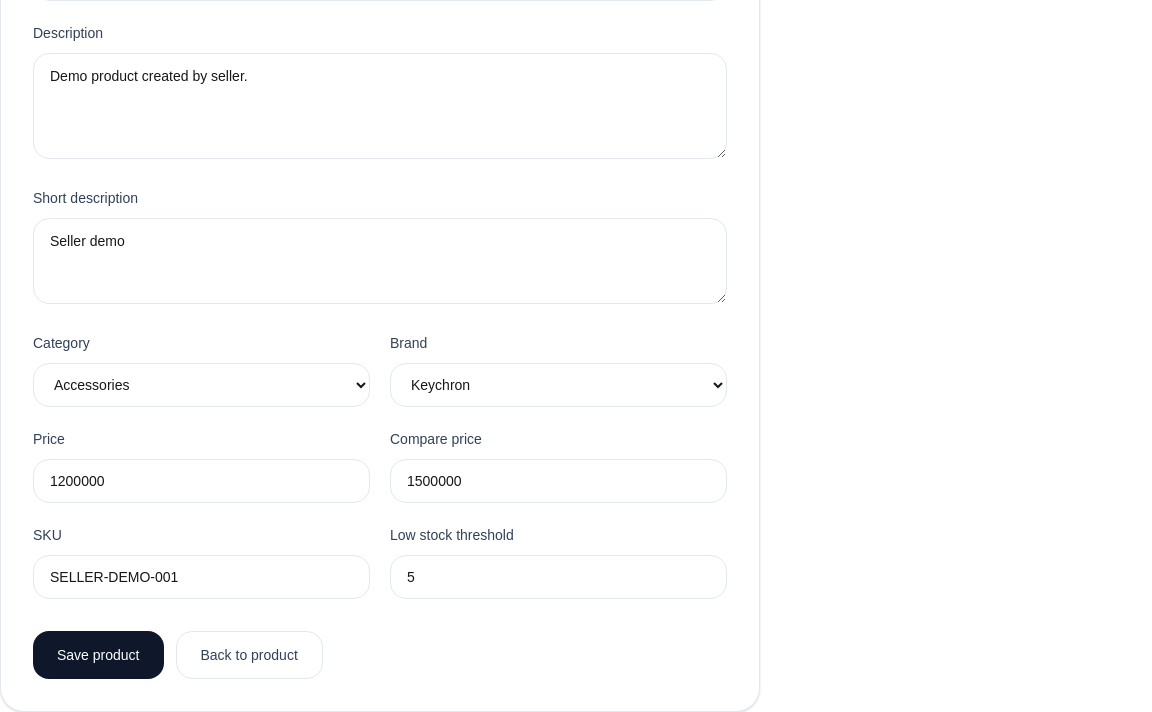
Scenario: SellerProductEditForm › shows update error
(page scrolled)
Click the button "Save product" at (98, 655), box x1=33 y1=631 x2=164 y2=679
(page scrolled)
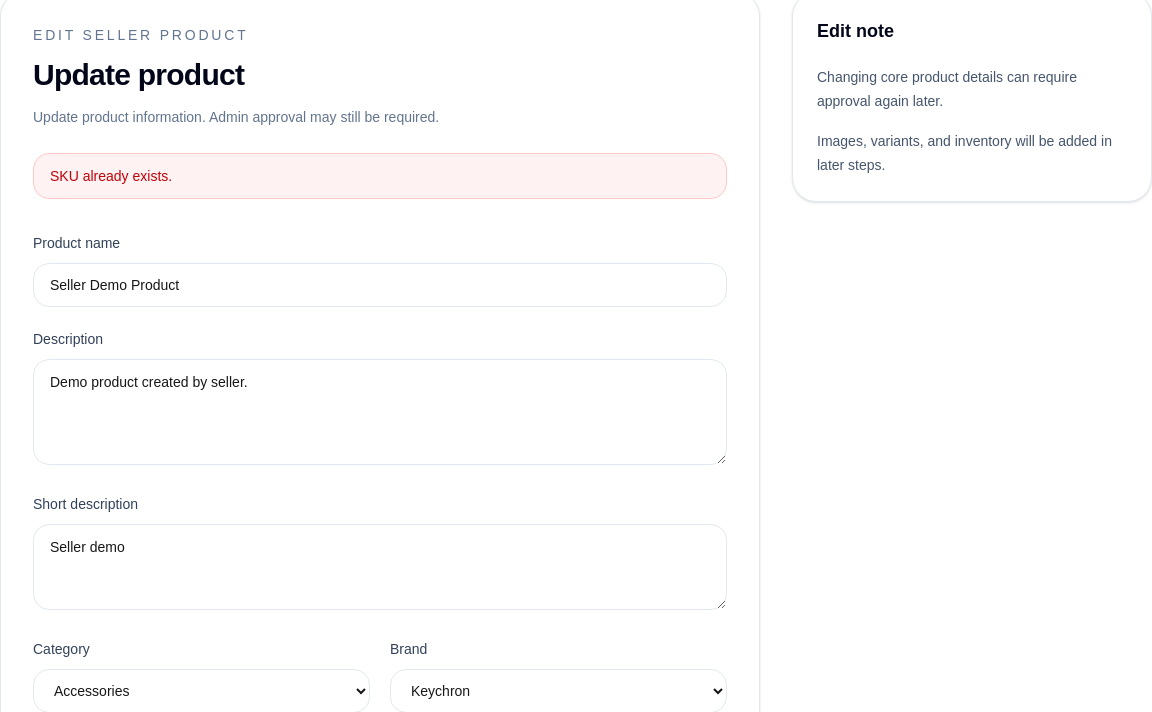
Expected: the text "SKU already exists." is shown, x1=33 y1=153 x2=727 y2=199
